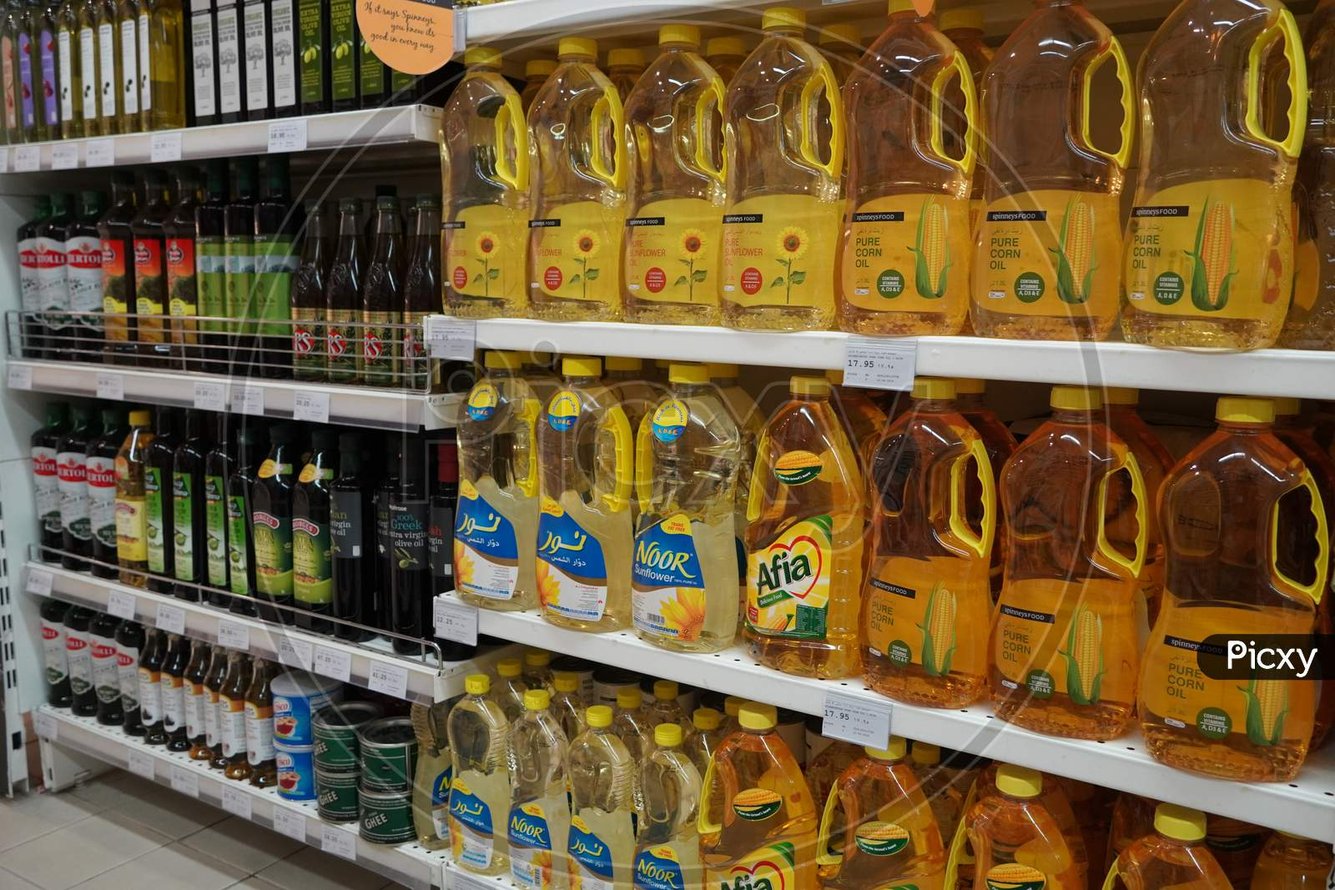other: (508, 612, 526, 630), (483, 617, 506, 628), (107, 370, 124, 383), (258, 396, 270, 407), (180, 777, 189, 785), (243, 397, 253, 403), (1314, 387, 1322, 394), (106, 382, 114, 388), (1313, 807, 1320, 813), (38, 569, 42, 578), (498, 324, 504, 329), (90, 742, 97, 746), (489, 9, 494, 13), (480, 325, 484, 330), (229, 630, 234, 632)
